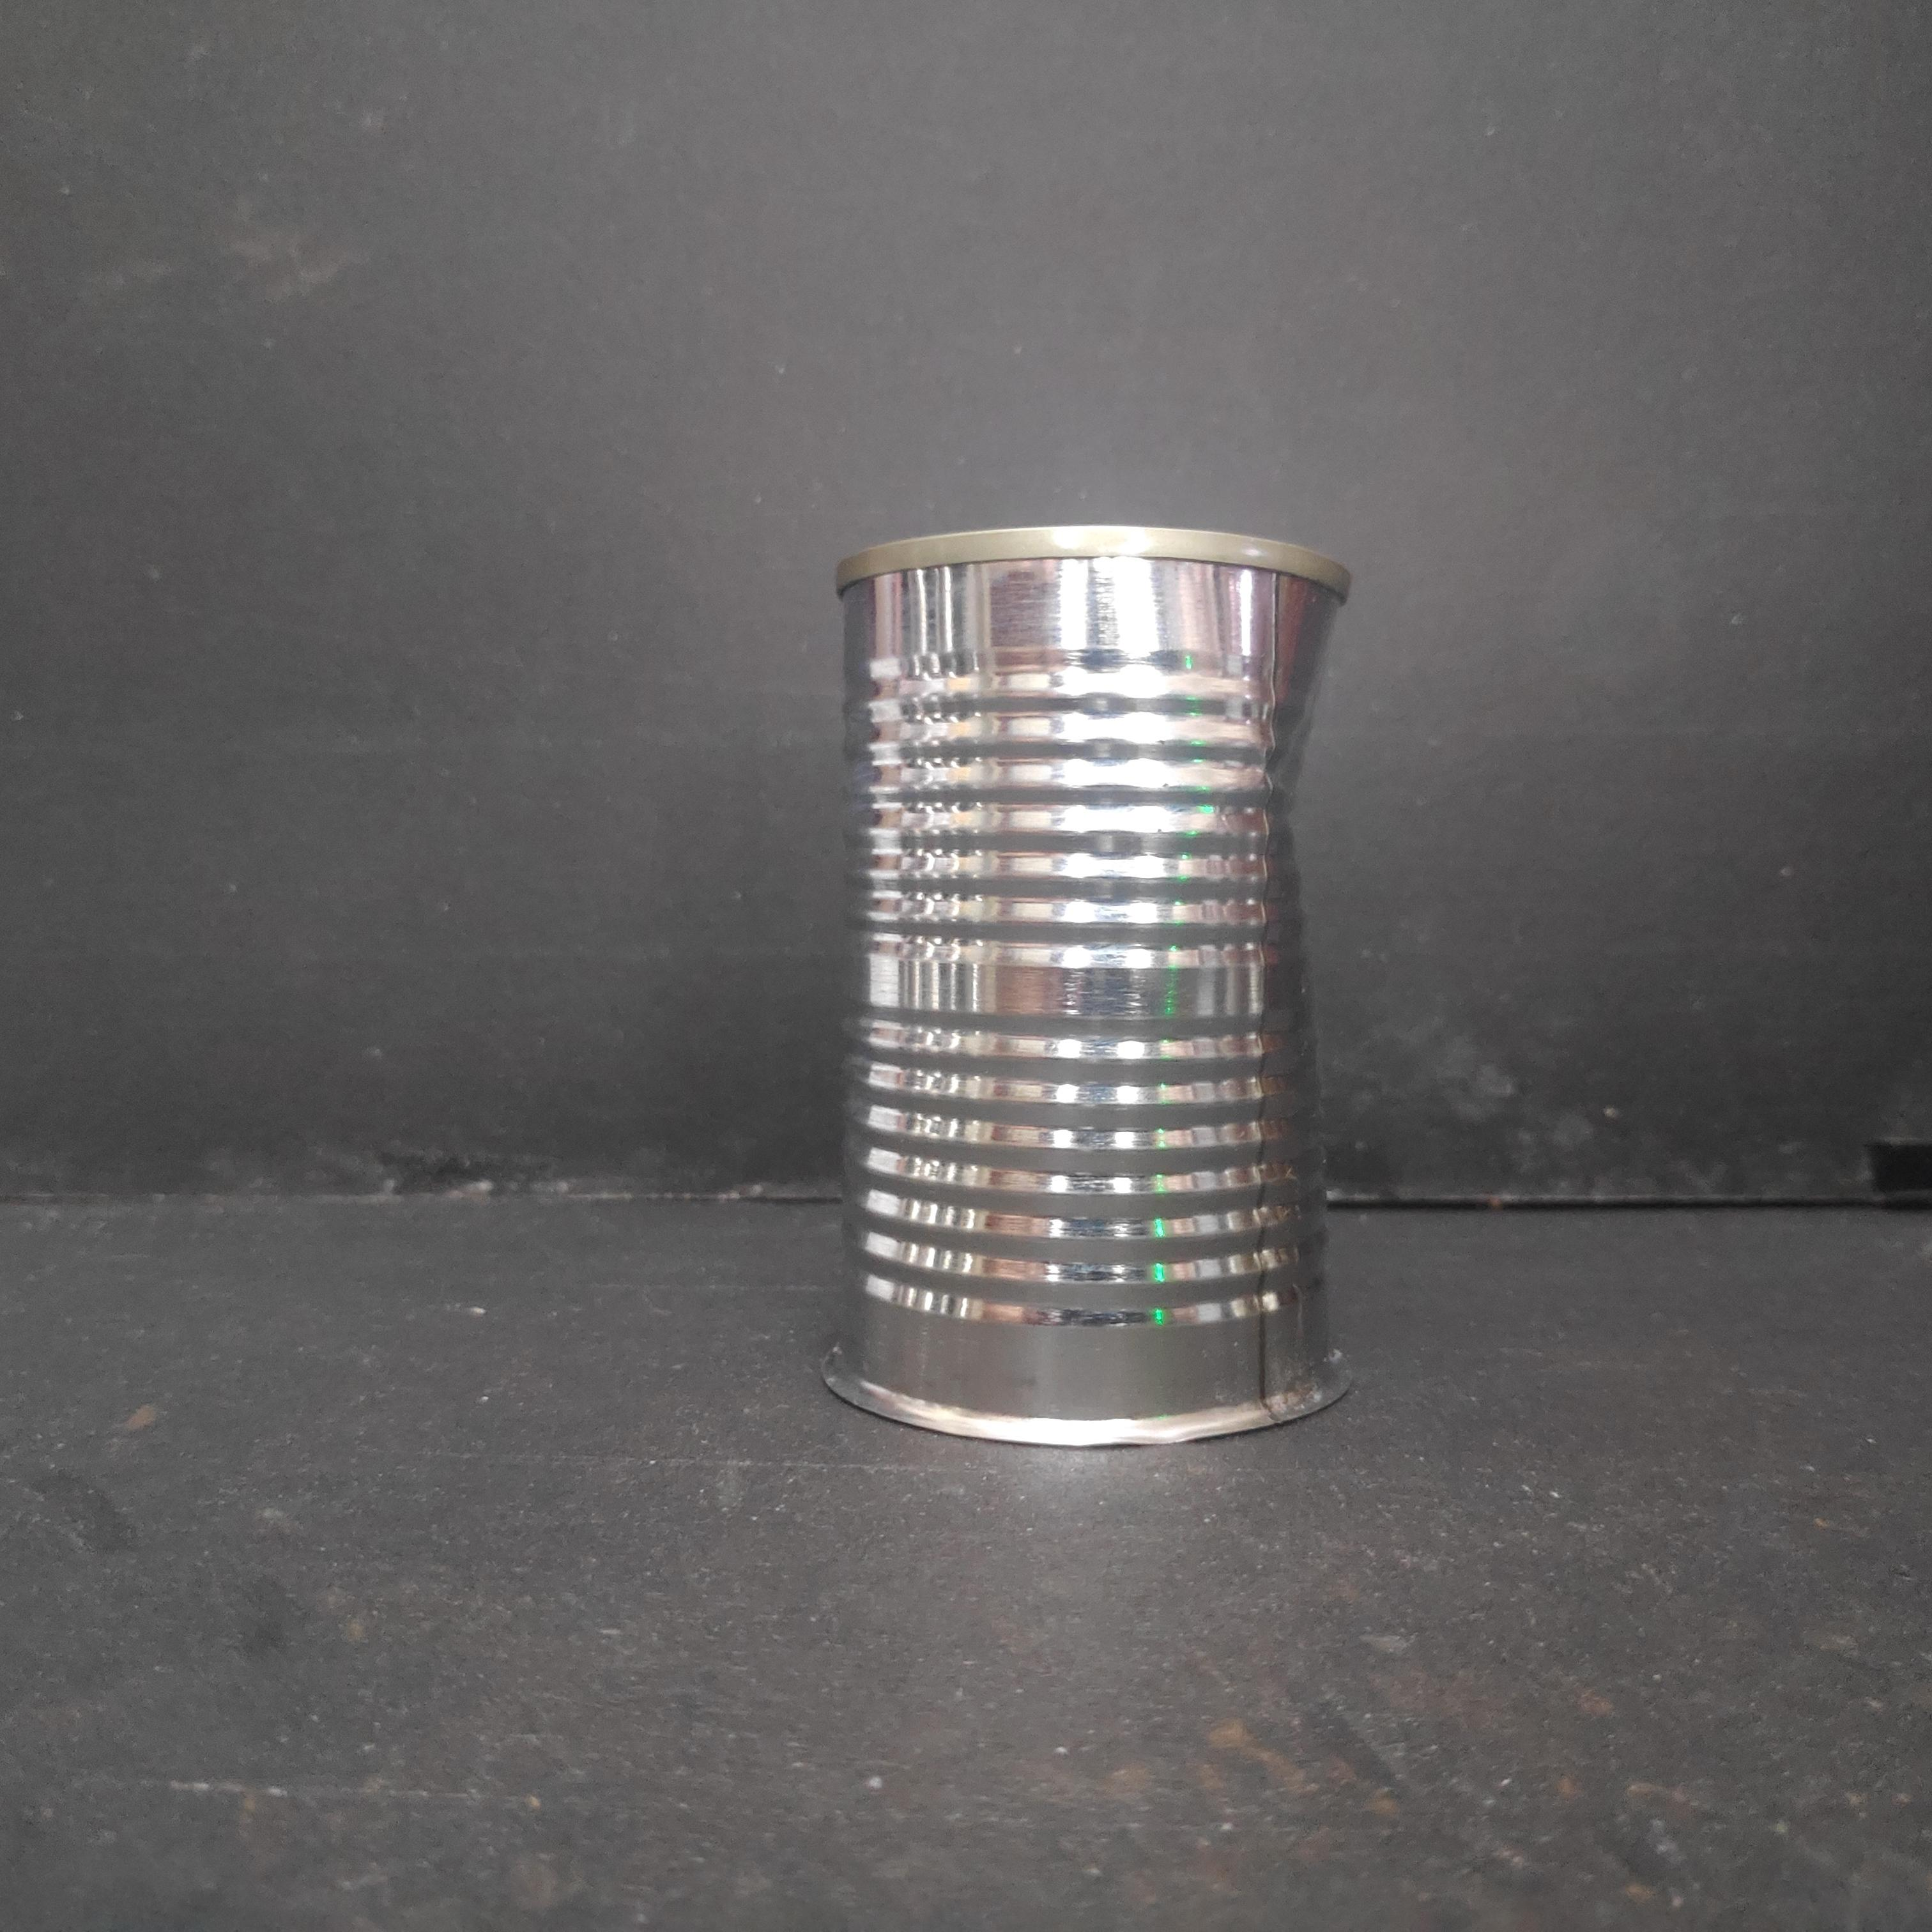Minor Defect: (823, 518, 1369, 1460)
